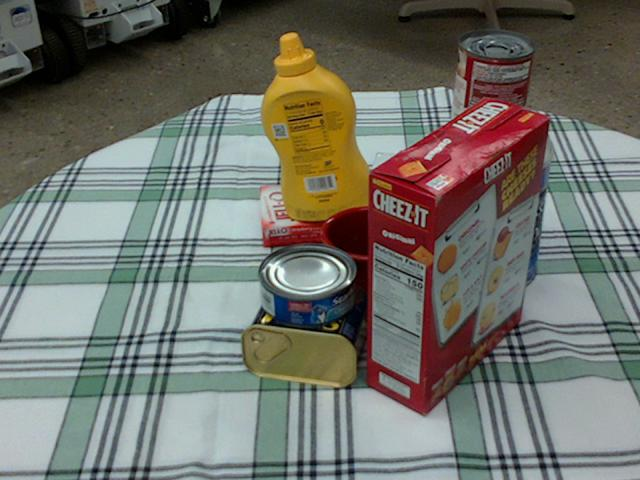cracker_box: (367, 98, 550, 414)
gelatin_box: (260, 185, 329, 248)
master_chef_can: (435, 120, 553, 294)
mug: (320, 207, 442, 325)
mustard_bottle: (260, 34, 373, 220)
potted_meat_can: (244, 275, 374, 385)
sugar_box: (345, 151, 450, 266)
tomato_soup_can: (448, 31, 533, 162)
tuna_fish_can: (258, 243, 357, 327)
